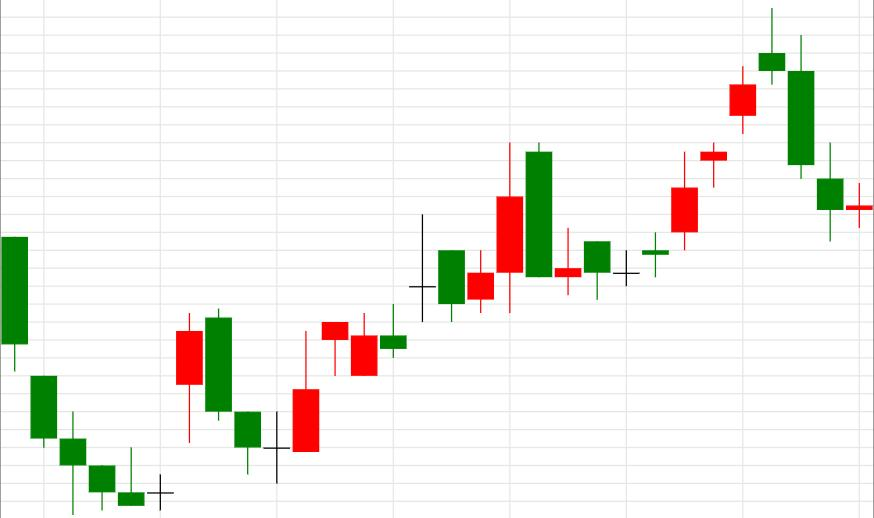evening_star_fall: (614, 7, 814, 287)
